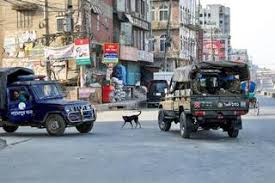policecar: (158, 60, 250, 140), (1, 66, 97, 136)
rickshaw: (241, 80, 262, 117)
suv: (146, 79, 168, 106)
